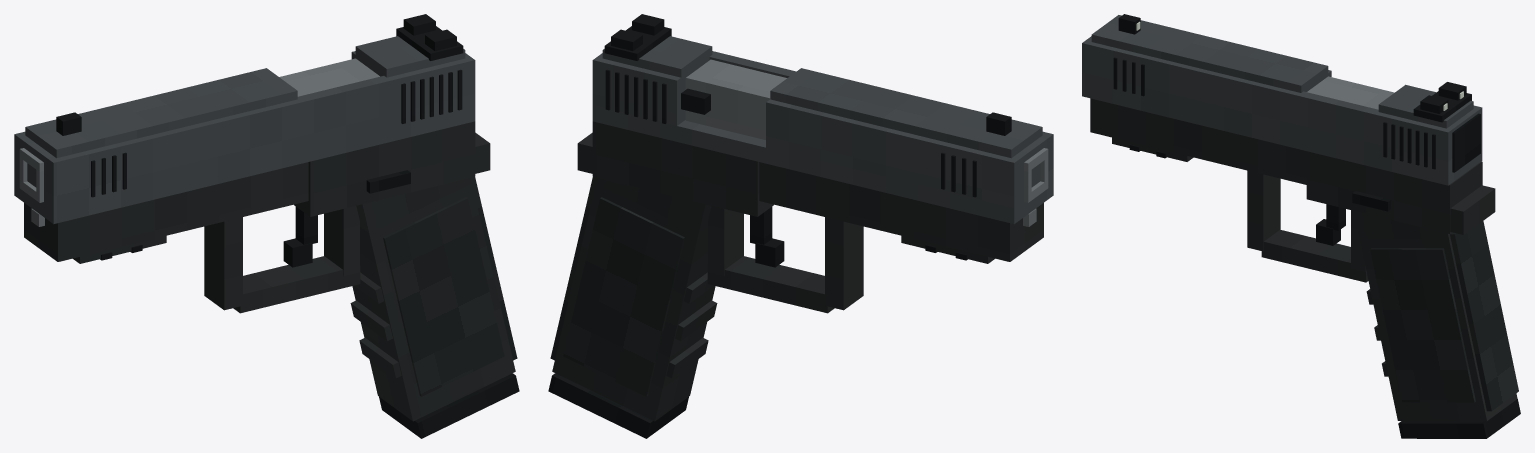
File: G17_Style.glb
3 renders of one model, left to right at view 1: azimuth 30°, elevation 25°; view 2: azimuth 150°, elevation 25°; view 3: azimuth 330°, elevation 25°, orthographic. The views are drawn at different scales.
Visible parts, largest first — view 1: Slide left wall, Stipple panel -1, Grip core, Dust cover, Slide crown front, Rear receiver, Trigger guard lower, Trigger guard front, Magazine floorplate, Slide crown rear, Trigger guard back, Chamber block (+13 smaller); view 2: Stipple panel 1, Slide front block, Grip core, Dust cover, Rear receiver, Slide crown front, Slide lower rail, Chamber block, Trigger guard lower, Slide rear block, Trigger guard front, Magazine floorplate (+15 smaller); view 3: Slide left wall, Stipple panel -1, Dust cover, Rear receiver, Grip core, Slide crown front, Backstrap, Trigger guard lower, Trigger guard front, Magazine floorplate, Slide crown rear, Beavertail (+8 smaller).
Part boxes in pixels (x1,y1,x2,y2): Slide left wall: [46, 55, 475, 224]; Stipple panel -1: [383, 197, 504, 396]; Grip core: [352, 178, 515, 421]; Dust cover: [24, 162, 308, 261]; Slide crown front: [25, 68, 297, 158]; Rear receiver: [294, 121, 475, 216]; Trigger guard lower: [233, 256, 360, 313]; Trigger guard front: [204, 217, 242, 310]; Magazine floorplate: [379, 373, 519, 438]; Slide crown rear: [355, 36, 465, 77]; Trigger guard back: [324, 206, 359, 276]; Chamber block: [279, 58, 379, 96]; Stipple panel 1: [563, 197, 684, 396]; Slide front block: [766, 99, 1046, 208]; Grip core: [552, 178, 715, 421]; Dust cover: [759, 162, 1043, 261]; Rear receiver: [592, 121, 773, 216]; Slide crown front: [770, 68, 1042, 158]; Slide lower rail: [592, 105, 1046, 224]; Chamber block: [685, 59, 786, 139]; Trigger guard lower: [707, 256, 834, 313]; Slide rear block: [592, 53, 709, 125]; Trigger guard front: [825, 217, 863, 310]; Magazine floorplate: [548, 373, 688, 438]; Slide left wall: [1082, 39, 1453, 185]; Stipple panel -1: [1370, 248, 1475, 402]; Dust cover: [1090, 98, 1306, 184]; Rear receiver: [1306, 151, 1482, 233]; Grip core: [1354, 211, 1517, 421]; Slide crown front: [1091, 15, 1328, 92]; Backstrap: [1450, 221, 1518, 411]; Trigger guard lower: [1261, 229, 1368, 282]; Trigger guard front: [1247, 170, 1280, 251]; Magazine floorplate: [1398, 399, 1520, 438]; Slide crown rear: [1378, 84, 1473, 128]; Beavertail: [1450, 185, 1495, 234].
Size of the model in its own units: 0.2015 by 0.1589 by 0.0318.
Materials: 1 (1 with a texture image).
